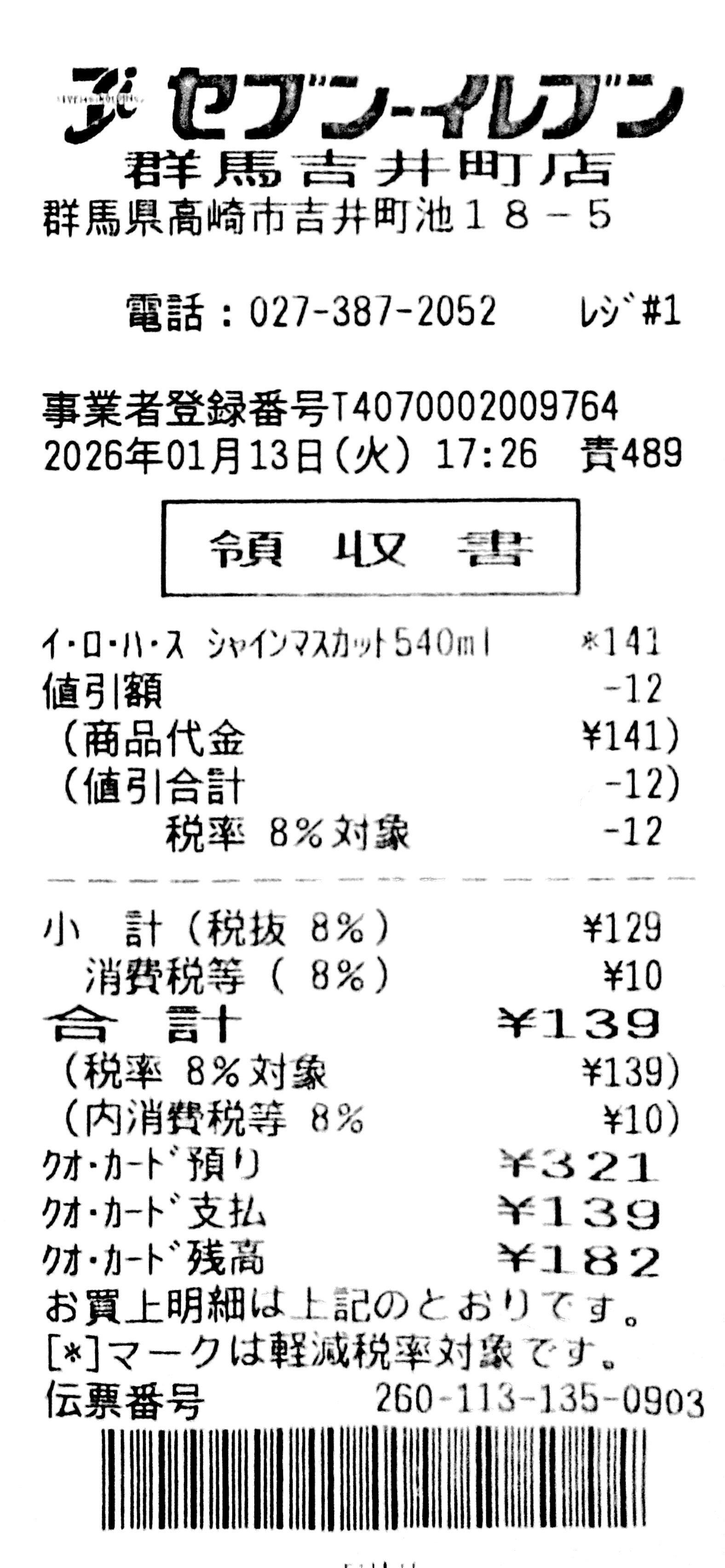Date: (44, 438, 322, 476)
Pay: (42, 1003, 659, 1043)
Shopname: (166, 66, 685, 141)
Telnum: (250, 294, 497, 328)
